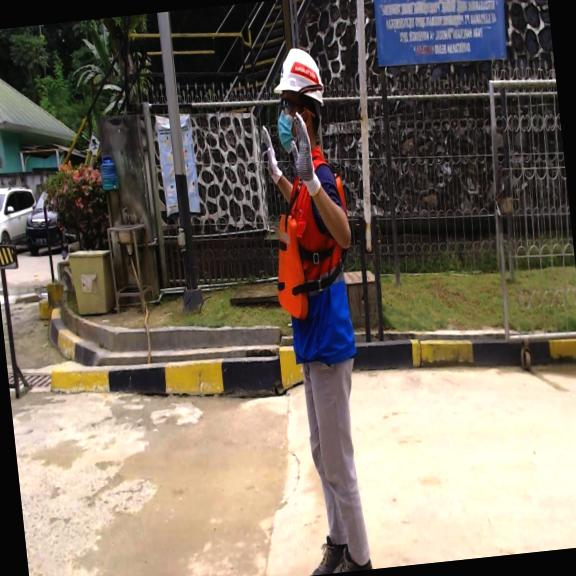safety_vest: (268, 215, 310, 320)
